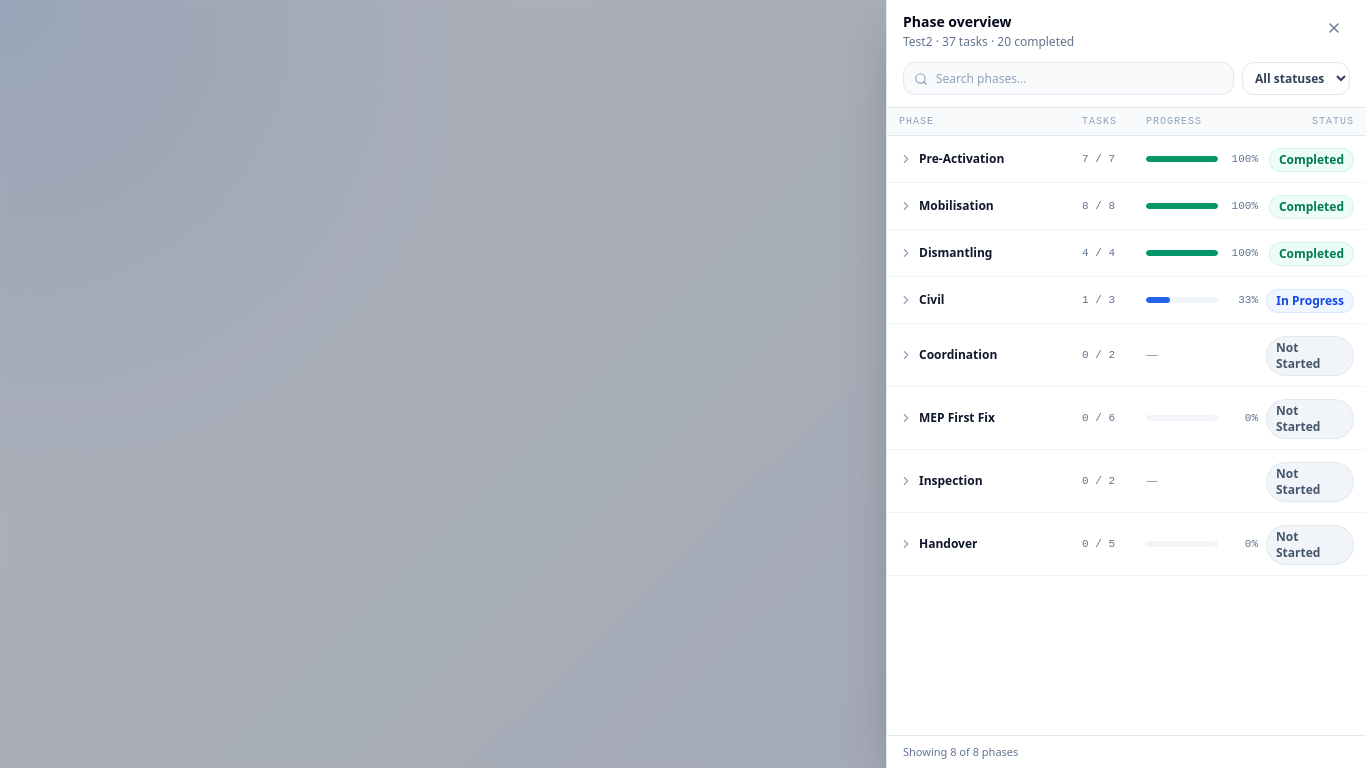
Test: Phase overview drawer › filters by search and by status
The image size is (1366, 768).
Type "mep" into the field labelled "Search phases".
click(1080, 78); type("mep")  # box x1=936 y1=70 x2=1223 y2=86
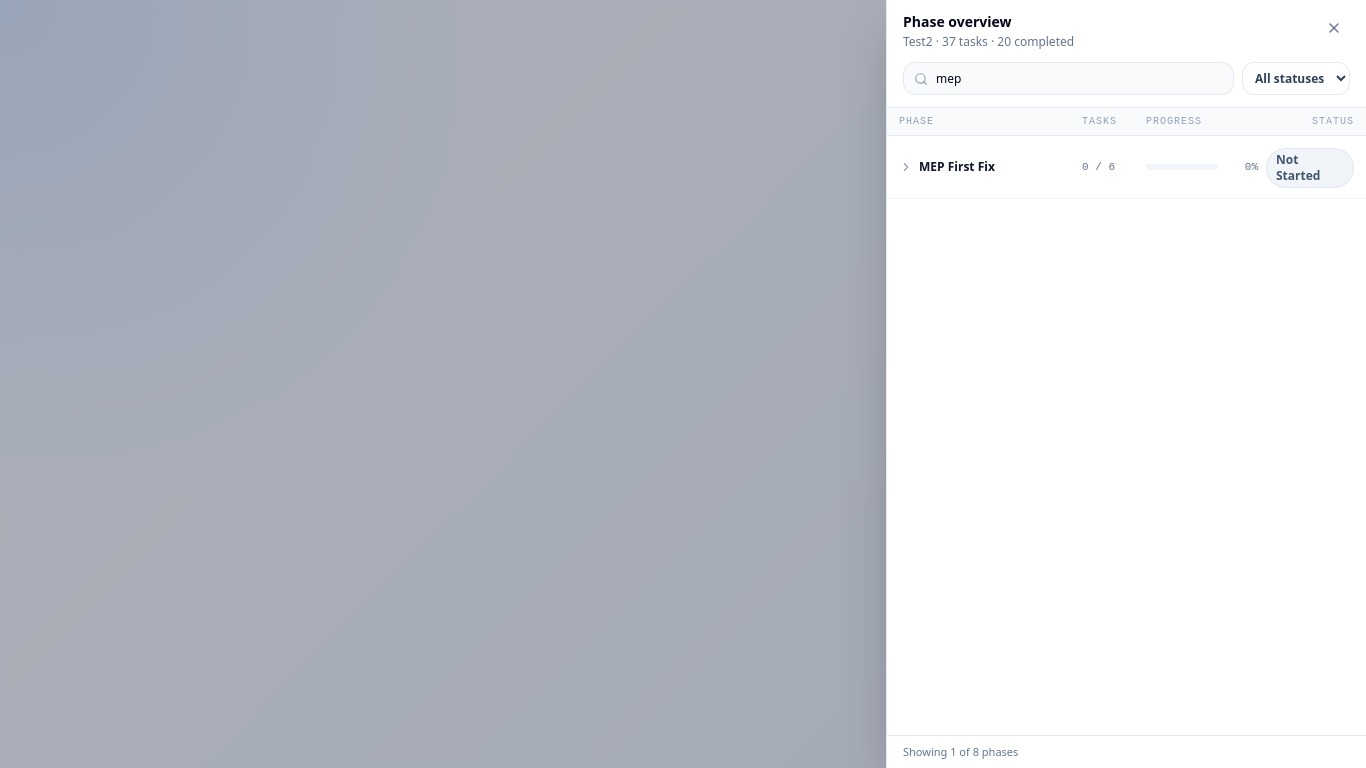
expect the text "Showing 1 of 8 phases" is shown: met, box x1=887 y1=734 x2=1365 y2=767
Clear the field named "Search phases" at x=1080, y=78, box x1=936 y1=70 x2=1223 y2=86
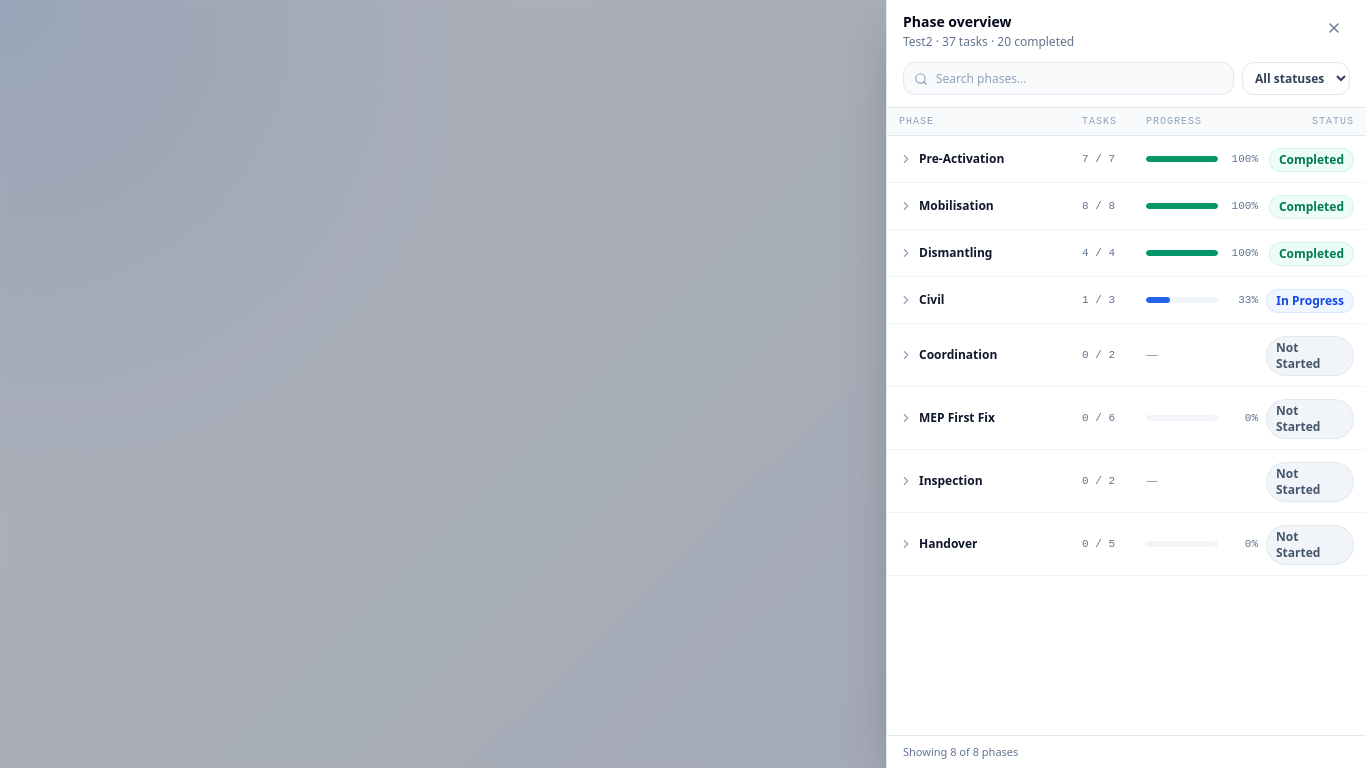
Select "Completed" in the dropdown named "Filter phases by status" at x=1296, y=78, box x1=1242 y1=62 x2=1350 y2=95
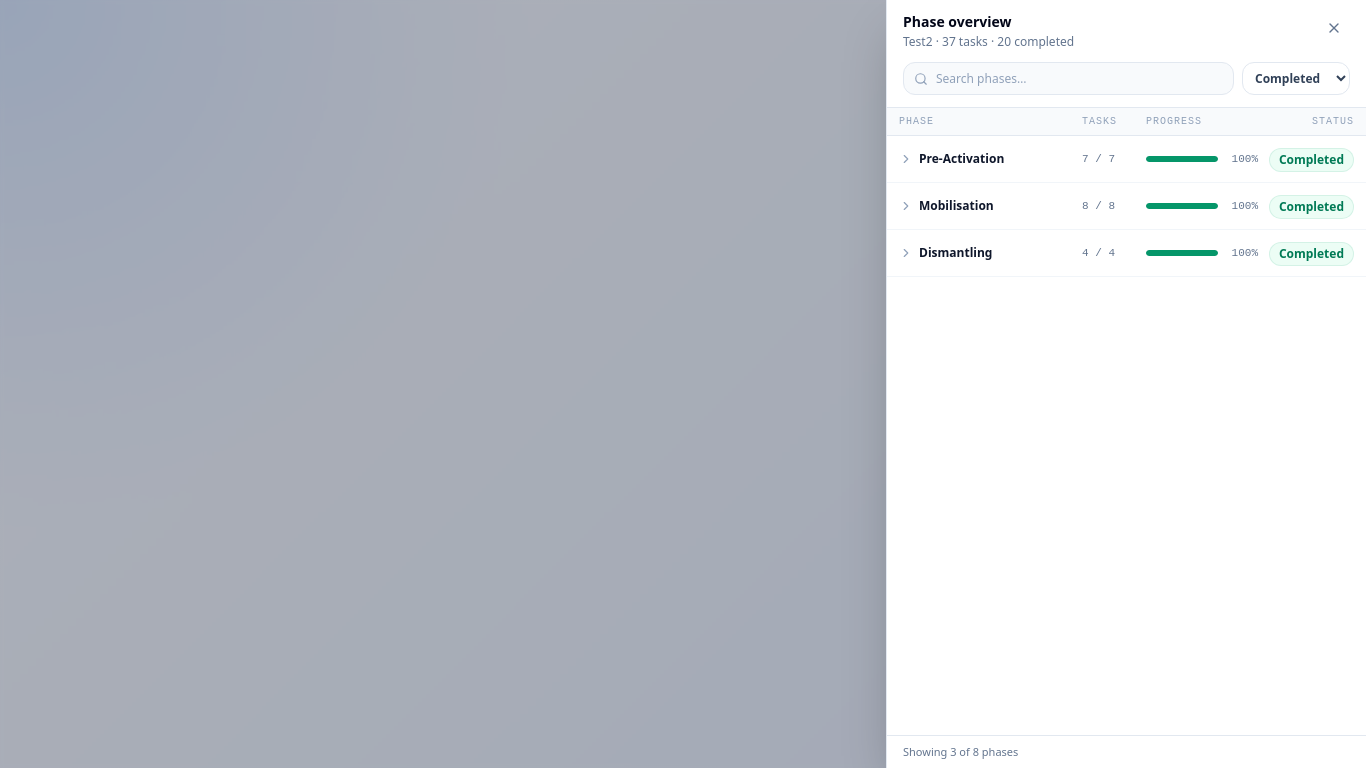
expect the text "Showing 3 of 8 phases" is shown: met, box x1=887 y1=734 x2=1365 y2=767
